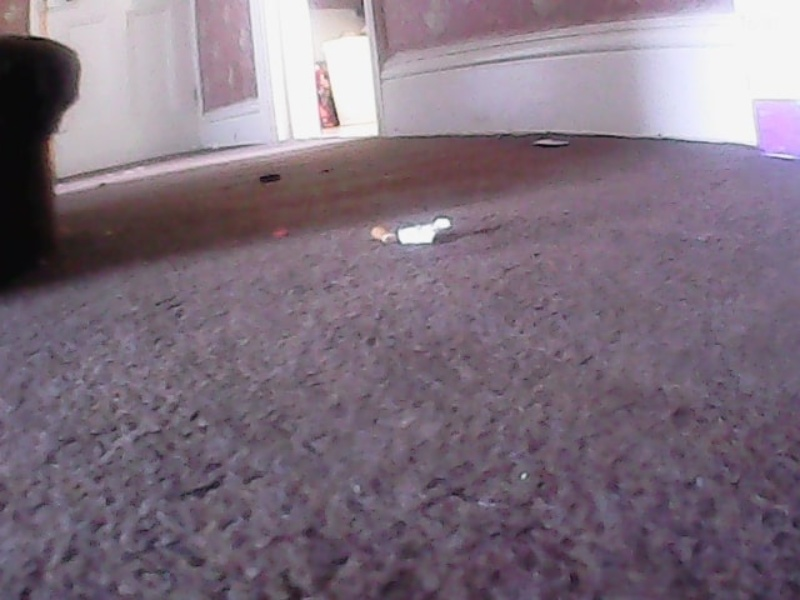cig: (371, 217, 453, 250)
